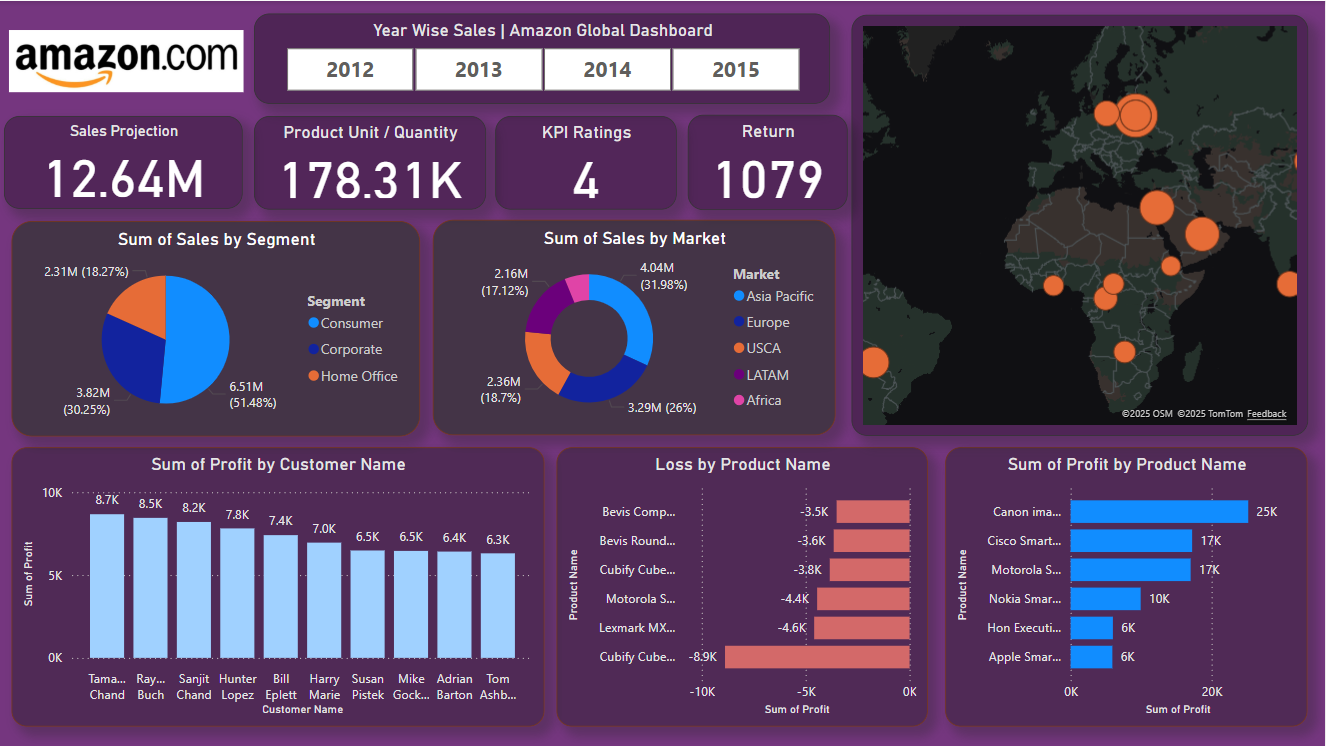

What the dashboard file says about the page in this screenshot:
{"tool":"powerbi","page":{"name":"Dash3","canvas":[1280,720],"ordinal":2},"visuals":[{"type":"image","box":[4.5,2.2,236.1,111.9],"z":0},{"type":"slicer","title":"Year Wise Sales | Amazon Global Dashboard ","fields":{"Values":["Orders.Year"]},"box":[246.2,12.3,556.1,87.3],"z":1000},{"type":"card","title":"Sales Projection","fields":{"Values":["Orders.Sales"]},"box":[5.1,111.5,230,90],"z":2000},{"type":"card","title":"Product Unit / Quantity","fields":{"Values":["Orders.Quantity"]},"box":[245.8,111.3,223.8,90.5],"z":3000},{"type":"card","title":"KPI Ratings","fields":{"Values":["Orders.Del2 Date"]},"box":[479.4,111.3,174.9,90.5],"z":4000},{"type":"card","title":"Return","fields":{"Values":["Returns.Order ID"]},"box":[665.2,110.1,154.1,91.7],"z":5000},{"type":"pieChart","fields":{"Category":["Orders.Segment"],"Y":["Orders.Sales"]},"box":[11.6,212,394.5,208.2],"z":5001},{"type":"donutChart","fields":{"Y":["Orders.Sales"],"Category":["Orders.Market"]},"box":[418.7,211.6,388.8,208.2],"z":5002},{"type":"columnChart","fields":{"Y":["Orders.Profit"],"Category":["Orders.Customer Name"]},"box":[11.6,430.5,514.1,269.9],"z":5003},{"type":"clusteredBarChart","title":"Loss by Product Name","fields":{"Y":["Orders.Profit"],"Category":["Orders.Product Name"]},"box":[538.5,430.5,358.6,269.9],"z":5004},{"type":"clusteredBarChart","fields":{"Y":["Orders.Profit"],"Category":["Orders.Product Name"]},"box":[913.7,430.5,349.6,269.9],"z":5005},{"type":"azureMap","fields":{"Size":["Orders.Sales"],"Category":["Orders.Region"]},"box":[823,13.3,440.9,406.5],"z":5006}]}

Visuals, with their boxes in screenshot pixels (x1, y1, x2, y2), scaled from the page's 1280x720 canvas onto the 1326x746 screenshot:
image: 5 2 249 118
"Year Wise Sales | Amazon Global Dashboard " slicer: 255 13 831 103
"Sales Projection" card: 5 116 244 209
"Product Unit / Quantity" card: 255 115 486 209
"KPI Ratings" card: 497 115 678 209
"Return" card: 689 114 849 209
pieChart - Orders.Segment x Orders.Sales: 12 220 421 435
donutChart - Orders.Sales x Orders.Market: 434 219 837 435
columnChart - Orders.Profit x Orders.Customer Name: 12 446 545 726
"Loss by Product Name" clusteredBarChart: 558 446 929 726
clusteredBarChart - Orders.Profit x Orders.Product Name: 947 446 1309 726
azureMap - Orders.Sales x Orders.Region: 853 14 1309 435
